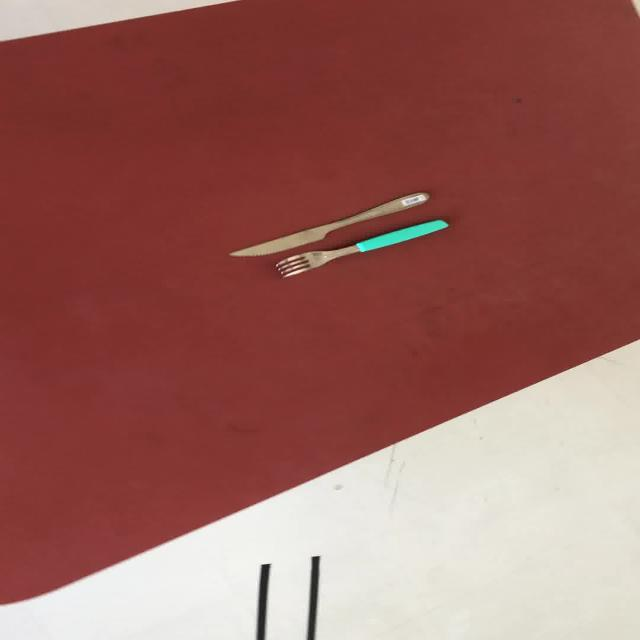fork: (274, 218, 448, 278)
knife fork: (226, 190, 430, 257)
